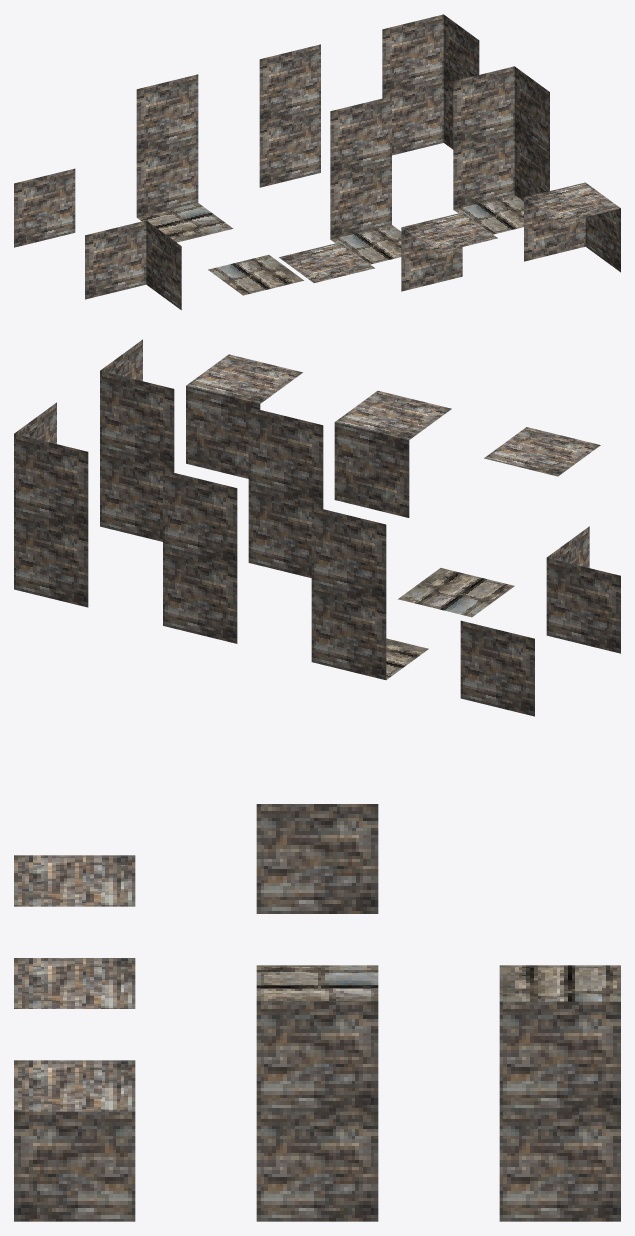
Rendered from dungeon_tiles.glb.
3 renders of one model, top to bottom at view 1: azimuth 30°, elevation 25°; view 2: azimuth 150°, elevation 25°; view 3: azimuth 270°, elevation 25°, orthographic. The views are drawn at different scales.
Visible parts, largest first — view 1: wall-floor-corner-col, wall-floor-inverted-col, wall-corner-col, wall-floor-col, wall-col, wall-small-col.001, wall-roof-corner-col, wall-roof-col, wall-small-col, floor-col, roof-col; view 2: wall-floor-inverted-col, wall-corner-col, wall-floor-corner-col, wall-col, wall-floor-col, wall-roof-col, wall-roof-corner-col, wall-small-col.001, wall-small-col, roof-col, floor-col; view 3: wall-floor-corner-col, wall-corner-col, wall-roof-corner-col, wall-small-col.001, roof-col, wall-roof-col, floor-col, wall-floor-inverted-col.
Part boxes in pixels (bbox=[...]): wall-floor-corner-col: bbox=[453, 66, 549, 234]; wall-floor-inverted-col: bbox=[136, 74, 233, 242]; wall-corner-col: bbox=[382, 14, 479, 155]; wall-floor-col: bbox=[330, 96, 401, 264]; wall-col: bbox=[259, 44, 320, 187]; wall-small-col.001: bbox=[85, 220, 181, 310]; wall-roof-corner-col: bbox=[524, 182, 620, 272]; wall-roof-col: bbox=[401, 212, 497, 291]; wall-small-col: bbox=[14, 168, 75, 247]; floor-col: bbox=[208, 255, 303, 295]; roof-col: bbox=[279, 242, 374, 282]; wall-floor-inverted-col: bbox=[311, 506, 428, 679]; wall-corner-col: bbox=[14, 402, 88, 607]; wall-floor-corner-col: bbox=[100, 339, 174, 541]; wall-col: bbox=[163, 470, 237, 643]; wall-floor-col: bbox=[248, 407, 323, 577]; wall-roof-col: bbox=[334, 391, 451, 517]; wall-roof-corner-col: bbox=[186, 354, 302, 478]; wall-small-col.001: bbox=[546, 526, 620, 653]; wall-small-col: bbox=[460, 620, 534, 716]; roof-col: bbox=[484, 427, 600, 476]; floor-col: bbox=[398, 568, 514, 617]; wall-floor-corner-col: bbox=[256, 1001, 378, 1221]; wall-corner-col: bbox=[499, 1001, 620, 1221]; wall-roof-corner-col: bbox=[14, 1060, 135, 1221]; wall-small-col.001: bbox=[256, 804, 378, 913]; roof-col: bbox=[14, 855, 135, 906]; wall-roof-col: bbox=[14, 958, 135, 1008]; floor-col: bbox=[256, 965, 378, 1001]; wall-floor-inverted-col: bbox=[499, 965, 620, 1001].
Size of the model in its own units: 7 by 2 by 5.
Materials: 8 (8 with a texture image).
